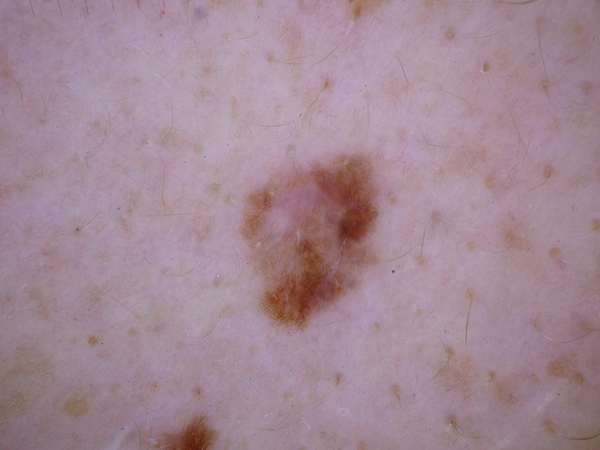Detected Lesion: (236, 151, 384, 330)
